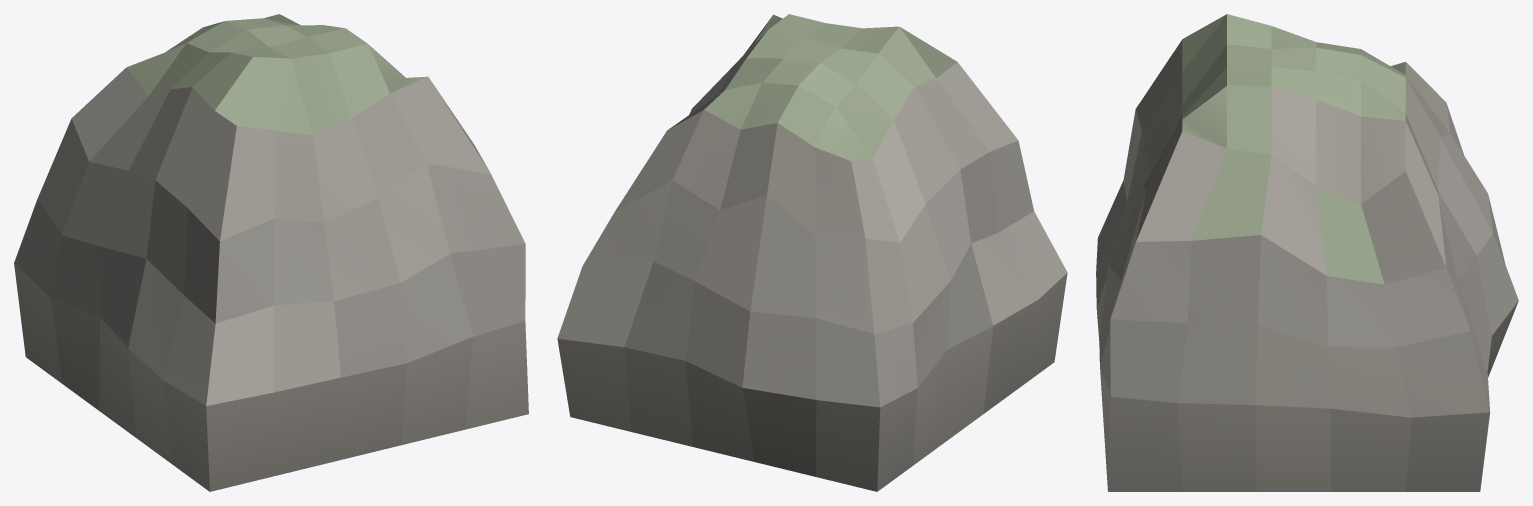
The model's file is roca_suelta.glb.
3 renders of one model, left to right at view 1: azimuth 30°, elevation 25°; view 2: azimuth 150°, elevation 25°; view 3: azimuth 270°, elevation 25°, orthographic. The views are drawn at different scales.
Parts seen in each view (by area): view 1: propforge-cuartos-roca_suelta; view 2: propforge-cuartos-roca_suelta; view 3: propforge-cuartos-roca_suelta.
Part boxes in pixels (box(x1,y1,x2,y2)): propforge-cuartos-roca_suelta: box(14, 14, 528, 491); propforge-cuartos-roca_suelta: box(557, 14, 1067, 491); propforge-cuartos-roca_suelta: box(1096, 14, 1518, 491).
Bounding box in the file's own units: 0.8589 × 0.8796 × 0.9085.
